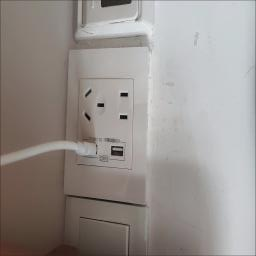outlet: (54, 38, 156, 208)
